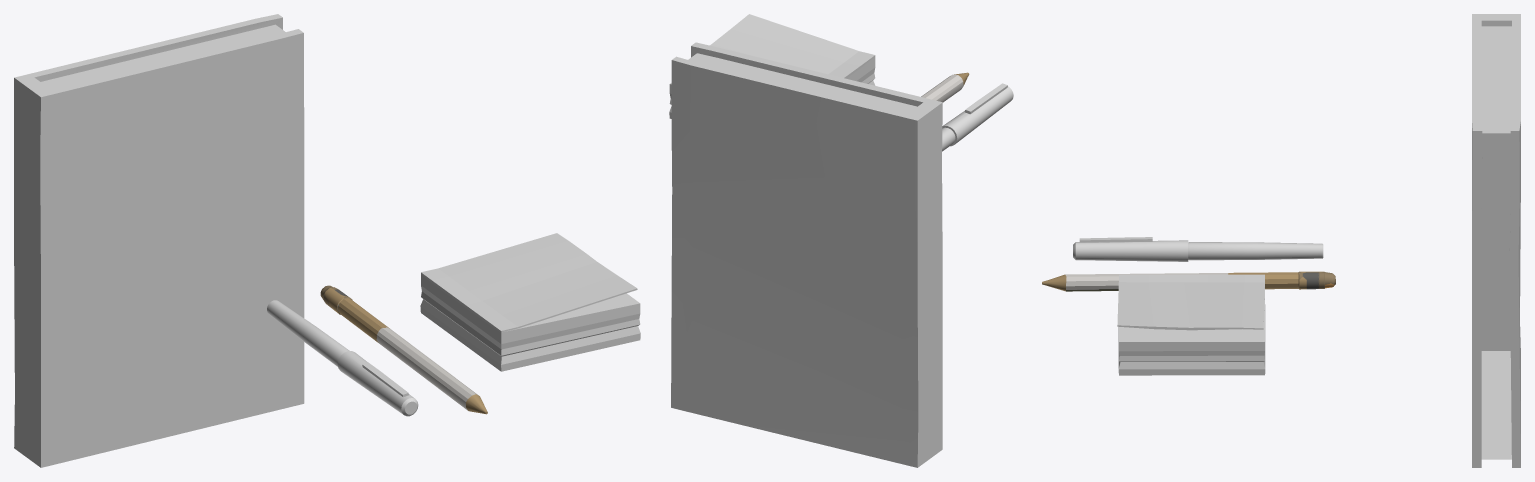
File: Extras_01.fbx
3 renders of one model, left to right at view 1: azimuth 30°, elevation 25°; view 2: azimuth 150°, elevation 25°; view 3: azimuth 270°, elevation 25°, orthographic. The views are drawn at different scales.
Visible parts, largest first — view 1: MythsBook, sitckynote_stack, pencil, pen; view 2: MythsBook, sitckynote_stack, pen, pencil; view 3: MythsBook, sitckynote_stack, pen, pencil.
Boxes of the visible parts, x1,y1,x2,y2 form: MythsBook: (14,14,304,467); sitckynote_stack: (420,233,640,371); pencil: (320,285,487,414); pen: (267,300,418,416); MythsBook: (671,42,942,467); sitckynote_stack: (669,14,875,118); pen: (942,83,1013,151); pencil: (921,72,969,102); MythsBook: (1472,14,1520,467); sitckynote_stack: (1117,274,1265,375); pen: (1073,237,1323,261); pencil: (1042,271,1335,291).
Bounding box in the file's own units: 2.1 × 1.83 × 2.36.
